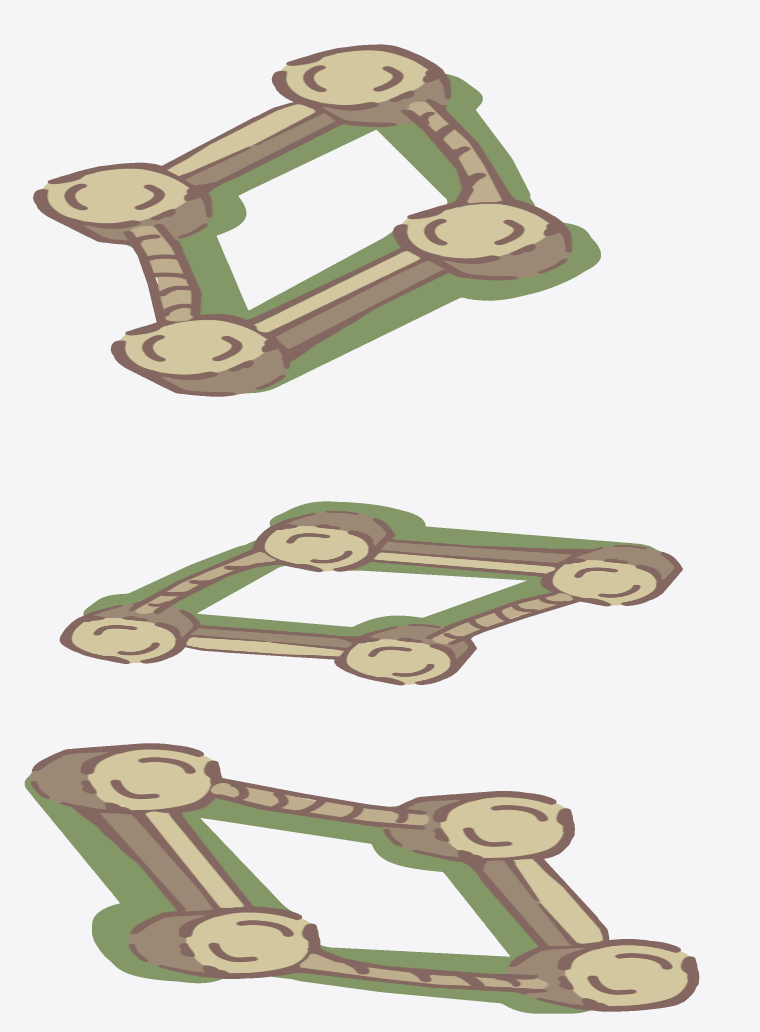
Rendered from Mesh_Activity_Pachinko_Pillar_03.fbx.
3 renders of one model, top to bottom at view 1: azimuth 30°, elevation 25°; view 2: azimuth 150°, elevation 25°; view 3: azimuth 270°, elevation 25°, orthographic. The views are drawn at different scales.
Parts seen in each view (by area): view 1: Mesh_Activity_Pachinko_Pillar_03; view 2: Mesh_Activity_Pachinko_Pillar_03; view 3: Mesh_Activity_Pachinko_Pillar_03.
Boxes of the visible parts, left/top/right/bottom form: Mesh_Activity_Pachinko_Pillar_03: left=33, top=44, right=600, bottom=396; Mesh_Activity_Pachinko_Pillar_03: left=59, top=501, right=682, bottom=685; Mesh_Activity_Pachinko_Pillar_03: left=24, top=743, right=699, bottom=1013.
Bounding box in the file's own units: 123 × 0 × 128.
1 material, 1 textured.
